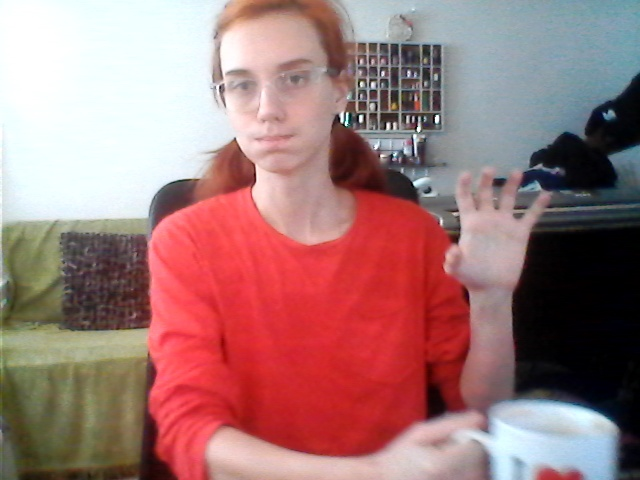budova: (438, 164, 556, 304)
